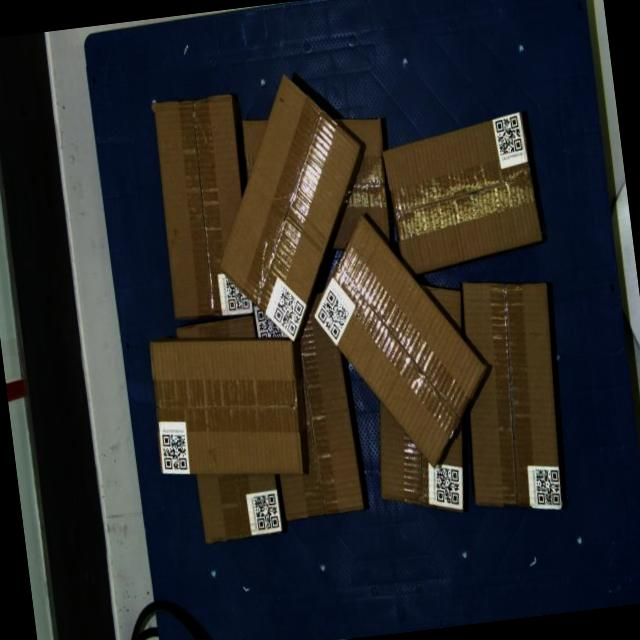box: (301, 200, 497, 480), (195, 64, 384, 350), (448, 272, 574, 520), (378, 110, 544, 278), (145, 324, 308, 491), (148, 93, 258, 322)
